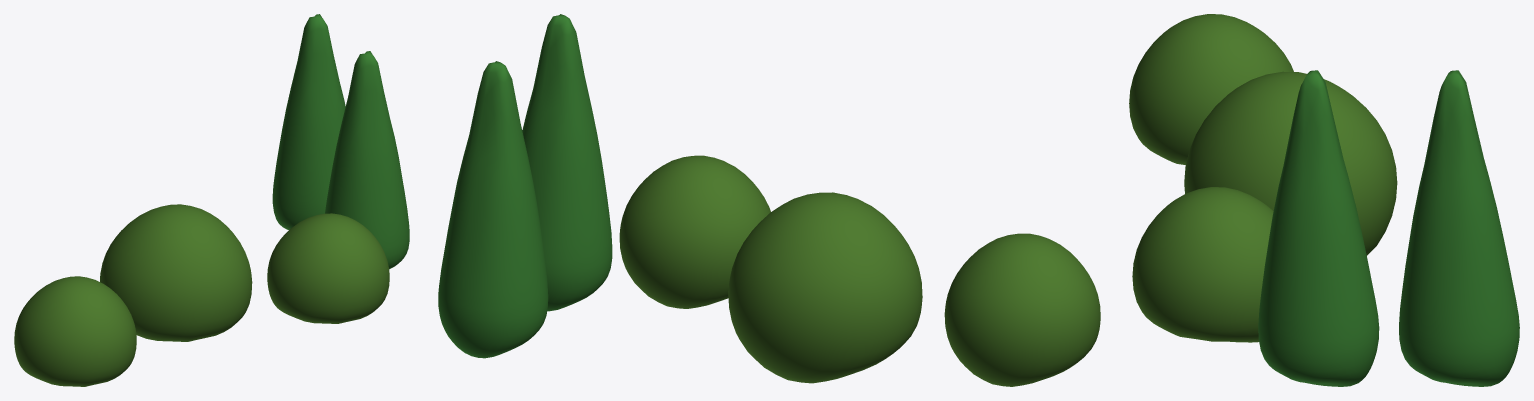
Rendered from Group_tree_2.fbx.
The picture shows the model from 3 angles, left to right: view 1: azimuth 30°, elevation 25°; view 2: azimuth 150°, elevation 25°; view 3: azimuth 270°, elevation 25°; orthographic projection. The views are drawn at different scales.
Visible parts, largest first — view 1: Icosphere.019, Icosphere.013, Icosphere.015, Icosphere.011, Icosphere.016; view 2: Icosphere.019, Icosphere.016, Icosphere.013, Icosphere.011, Icosphere.015; view 3: Icosphere.011, Icosphere.016, Icosphere.015, Icosphere.019, Icosphere.013.
Boxes of the visible parts, box(x1,y1,x2,y2) form: Icosphere.019: box(100, 204, 252, 341); Icosphere.013: box(14, 276, 136, 386); Icosphere.015: box(267, 213, 389, 323); Icosphere.011: box(325, 51, 409, 269); Icosphere.016: box(272, 14, 345, 229); Icosphere.019: box(728, 192, 922, 383); Icosphere.016: box(438, 61, 548, 358); Icosphere.013: box(944, 233, 1100, 386); Icosphere.011: box(522, 14, 612, 311); Icosphere.015: box(619, 155, 770, 308); Icosphere.011: box(1258, 70, 1379, 386); Icosphere.016: box(1399, 70, 1519, 386); Icosphere.015: box(1132, 187, 1273, 342); Icosphere.019: box(1184, 71, 1397, 255); Icosphere.013: box(1129, 14, 1293, 164).
Size of the model in its own units: 465 by 243 by 269.
